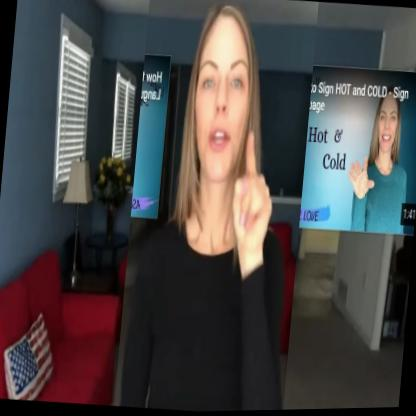NiceToMeetYou: (114, 0, 319, 414)
